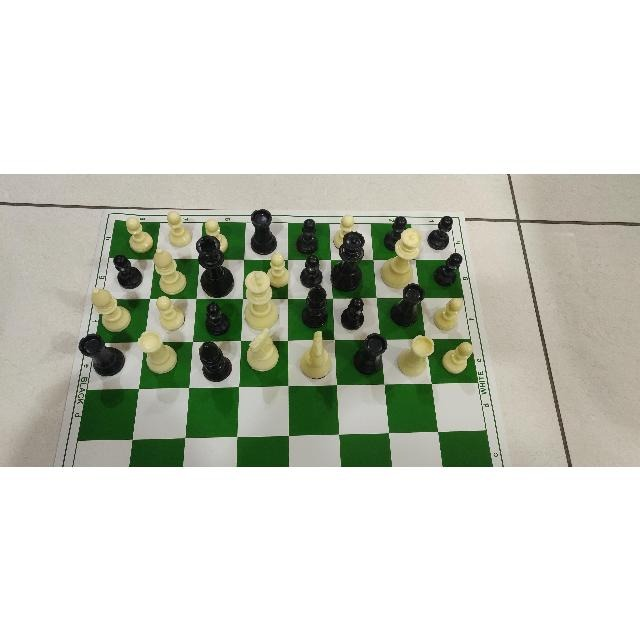black-bishop: (196, 340, 235, 382), (300, 283, 330, 330)
black-king: (194, 232, 235, 296)
black-pawn: (110, 252, 144, 288), (202, 298, 234, 336), (432, 253, 462, 289), (382, 212, 409, 250), (339, 294, 366, 330), (427, 212, 453, 249), (299, 252, 326, 287), (295, 218, 321, 253)
black-queen: (330, 229, 366, 289)
black-rook: (77, 330, 126, 377), (390, 281, 424, 328), (353, 332, 389, 374), (249, 207, 279, 255)
white-bishop: (88, 285, 134, 330), (152, 246, 189, 296)
white-king: (242, 267, 279, 329)
white-knight: (298, 326, 333, 379), (243, 325, 280, 373)
white-pawn: (153, 292, 187, 332), (122, 215, 154, 255), (442, 336, 474, 374), (431, 295, 464, 331), (161, 211, 192, 246), (201, 217, 231, 253), (265, 250, 293, 288), (333, 213, 359, 249)
white-queen: (380, 226, 422, 290)
white-rook: (135, 328, 179, 376), (397, 330, 435, 377)
